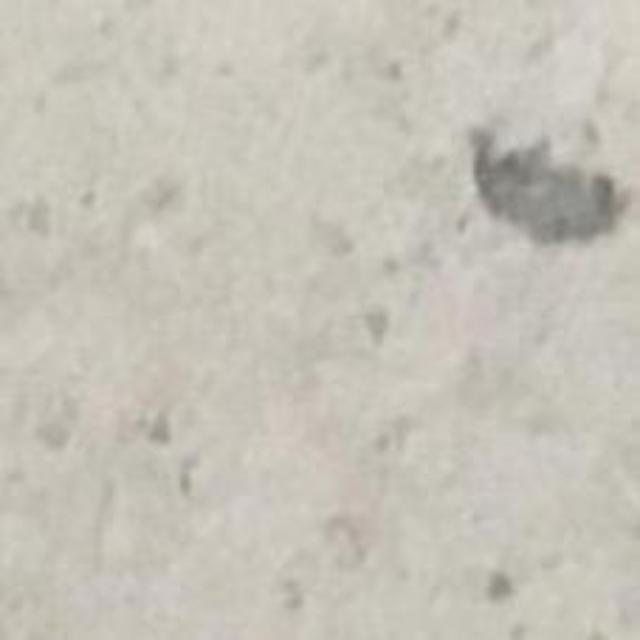peeling plaster: (471, 130, 625, 245)
